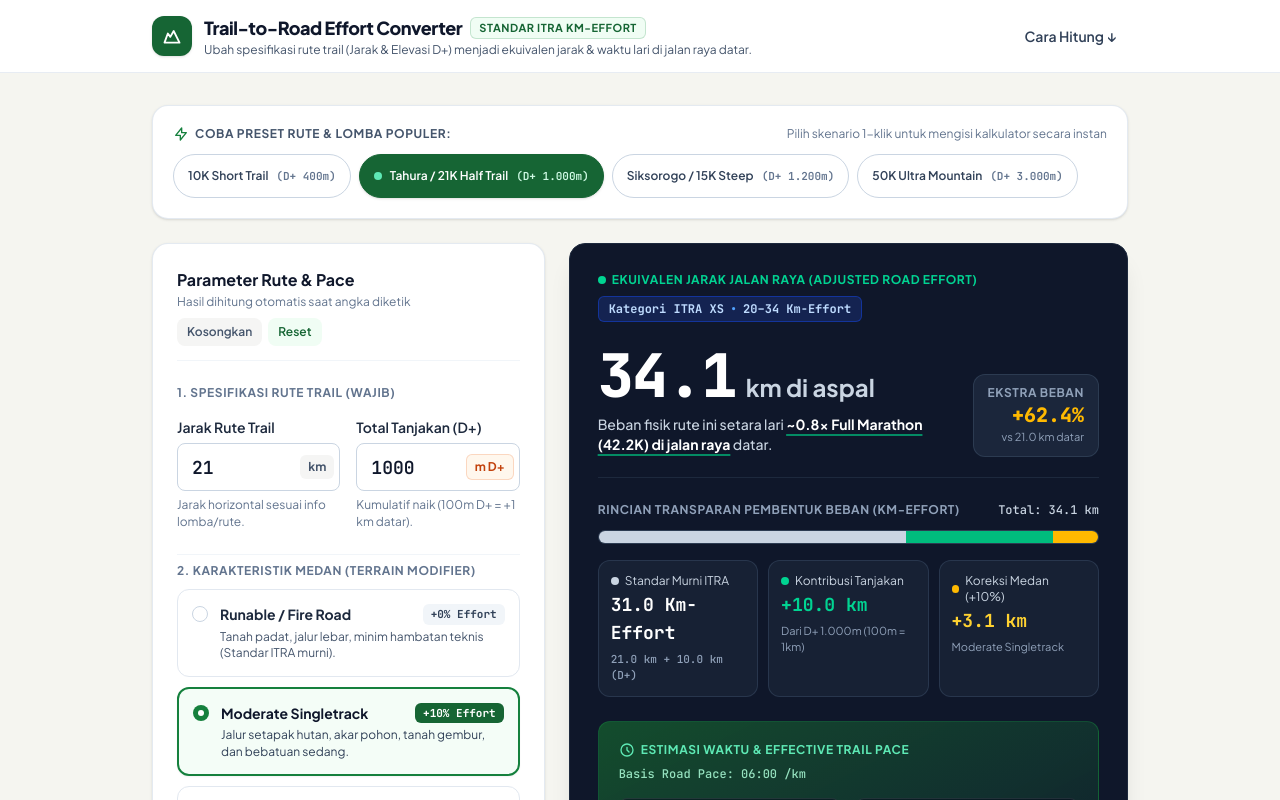
Test: App UI Integration — Reactive Calculator & System States › updates calculation reactively when selecting Quick Presets including 50K Ultra Warning
The image size is (1280, 800).
Click the button "50K Ultra Mountain (D+ 3.000m)": (968, 176) x1=857 y1=154 x2=1078 y2=198
(page scrolled)
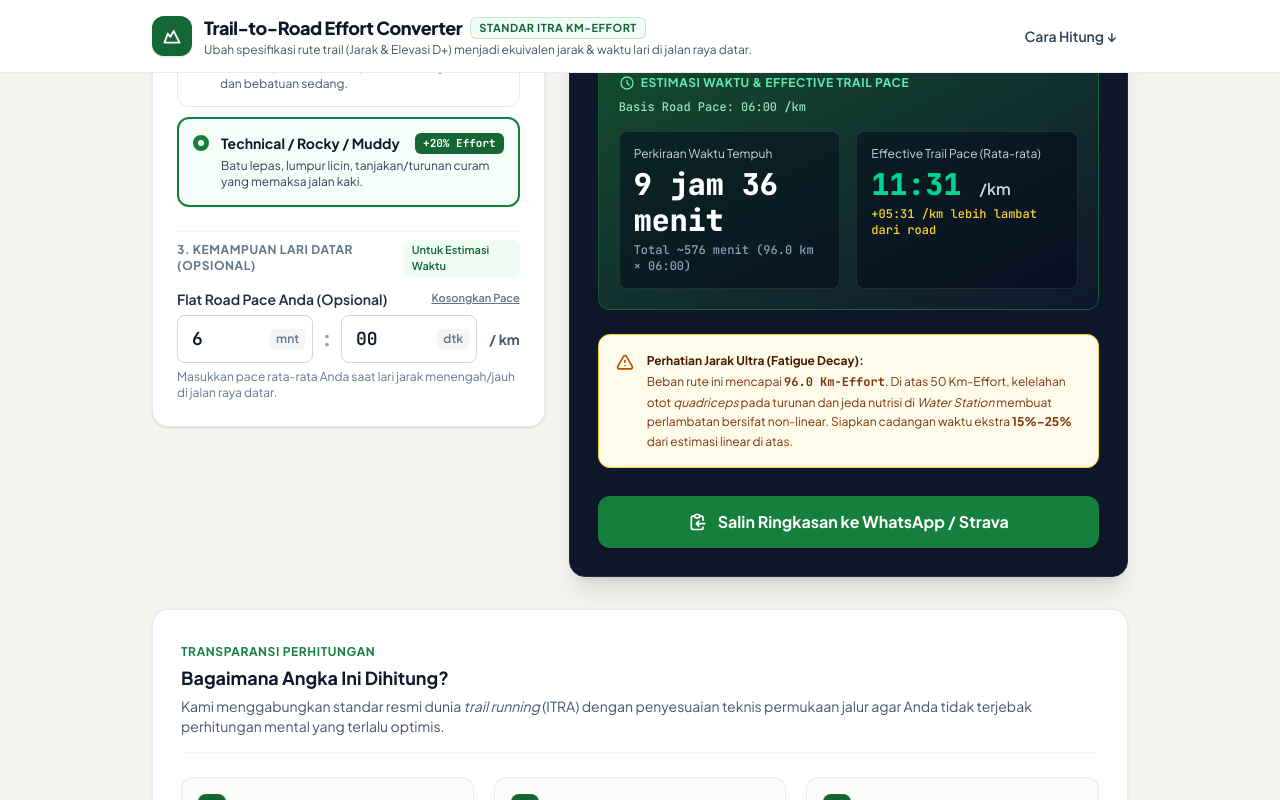
Check: the message with test id "ultra-warning-banner" is shown, box x1=598 y1=334 x2=1099 y2=468
